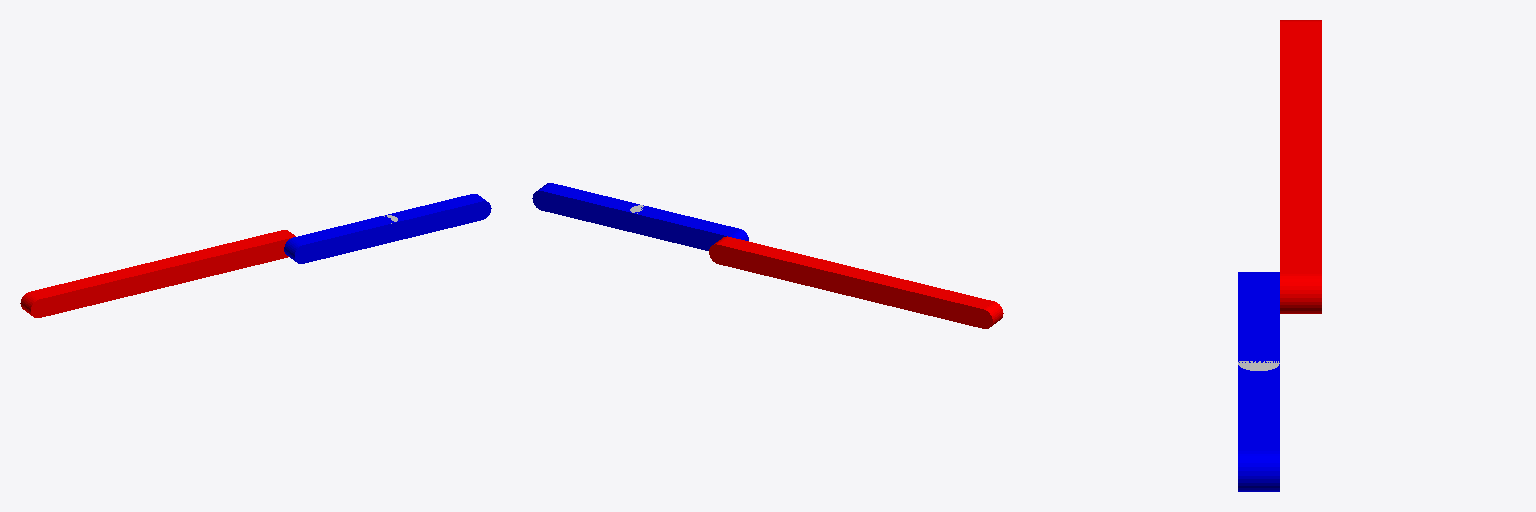
URDF robot description (two_link_robot):
<?xml version="1.0"?>
<robot name="two_link_robot">

  <!-- Base -->
  <link name="base_link"/>

  <!-- Link1 -->
  <link name="link1">
    <visual>
      <origin xyz="0.03536 0.005 0" rpy="0 0 0"/>
      <geometry>
        <box size="0.07071 0.005 0.005"/>
      </geometry>
      <material name="red">
        <color rgba="1 0 0 1"/>
      </material>
    </visual>
    <visual>
      <origin xyz="0 0.005 0" rpy="1.5708 0 0"/>
      <geometry>
        <cylinder radius="0.0025" length="0.005"/>
      </geometry>
      <material name="red">
        <color rgba="1 0 0 1"/>
      </material>
    </visual>
    <visual>
      <origin xyz="0.07071 0.005 0" rpy="1.5708 0 0"/>
      <geometry>
        <cylinder radius="0.0025" length="0.005"/>
      </geometry>
      <material name="red">
        <color rgba="1 0 0 1"/>
      </material>
    </visual>

    <collision>
      <origin xyz="0.03536 0.005 0" rpy="0 0 0"/>
      <geometry>
        <box size="0.07071 0.005 0.005"/>
      </geometry>
    </collision>

    <inertial>
      <origin xyz="0.03536 0.005 0" rpy="0 0 0"/>
      <mass value="0.01"/>

      <inertia
        ixx="0.00000217"
        ixy="0"
        ixz="0"
        iyy="0.00002167"
        iyz="0"
        izz="0.00002167"/>
    </inertial>
  </link>

  <!-- Link2 -->
  <link name="link2">
    <visual>
      <origin xyz="0.025 0 0" rpy="0 0 0"/>
      <geometry>
        <box size="0.05 0.005 0.005"/>
      </geometry>
      <material name="blue">
        <color rgba="0 0 1 1"/>
      </material>
    </visual>
    <visual>
      <origin xyz="0 0 0" rpy="1.5708 0 0"/>
      <geometry>
        <cylinder radius="0.0025" length="0.005"/>
      </geometry>
      <material name="blue">
        <color rgba="0 0 1 1"/>
      </material>
    </visual>
    <visual>
      <origin xyz="0.05 0 0" rpy="1.5708 0 0"/>
      <geometry>
        <cylinder radius="0.0025" length="0.005"/>
      </geometry>
      <material name="blue">
        <color rgba="0 0 1 1"/>
      </material>
    </visual>

    <collision>
      <origin xyz="0.025 0.005 0" rpy="0 0 0"/>
      <geometry>
        <box size="0.05 0.005 0.005"/>
      </geometry>
    </collision>

    <inertial>
      <origin xyz="0.03536 0.005 0" rpy="0 0 0"/>
      <mass value="0.01"/>

      <inertia
        ixx="0.00000217"
        ixy="0"
        ixz="0"
        iyy="0.00002167"
        iyz="0"
        izz="0.00002167"/>
    </inertial>
  </link>


  <!-- Link3 -->
  <link name="ee_link">
    <visual>
      <geometry>
        <cylinder radius="0.0025" length="0.005"/>
      </geometry>

      <material name="gray">
        <color rgba="0.8 0.8 0.8 0.8"/>
      </material>
    </visual>

    <collision>
      <origin xyz="0 0 0" rpy="0 0 0"/>
      <geometry>
        <box size="0.01 0.01 0.01"/>
      </geometry>
    </collision>

    <inertial>
      <origin xyz="0 0 0" rpy="0 0 0"/>
      <mass value="0.01"/>

      <inertia
        ixx="0.00000217"
        ixy="0"
        ixz="0"
        iyy="0.00002167"
        iyz="0"
        izz="0.00002167"/>
    </inertial>
  </link>

  <!-- Joint1 -->
  <joint name="joint1" type="revolute">
    <parent link="base_link"/>
    <child link="link1"/>

    <!-- link1 origin -->
    <origin xyz="-0.025 0 0" rpy="0 0 0"/>

    <axis xyz="0 1 0"/>

    <limit
      lower="-3.14159"
      upper="3.14159"
      effort="10"
      velocity="10"/>
  </joint>

  <!-- Joint2 -->
  <joint name="joint2" type="revolute">
    <parent link="link1"/>
    <child link="link2"/>

    <!-- link1 tip -->
    <origin xyz="0.07071 0 0" rpy="0 0 0"/>

    <axis xyz="0 1 0"/>

    <limit
      lower="-3.14159"
      upper="3.14159"
      effort="10"
      velocity="10"/>
  </joint>

  <!-- Joint3 -->
  <joint name="joint3" type="fixed">
    <parent link="link2"/>
    <child link="ee_link"/>

    <!-- link2 tip -->
    <origin xyz="0.025 0 0" rpy="0 3.14159 0"/>
    <axis xyz="0 1 0"/>

  </joint>

</robot>

--- What the picture shows (computed from the rendered views, not written in the file) ---
Views: 3 orthographic renders of the robot side by side, from view 1: azimuth 30°, elevation 25°; view 2: azimuth 150°, elevation 25°; view 3: azimuth 270°, elevation 25°.
Robot: two_link_robot — 4 links, 3 joints (2 revolute, 1 fixed); root link base_link; default pose: every joint at zero.
Visible links, largest first — view 1: link1, link2; view 2: link1, link2; view 3: link1, link2.
Boxes of the visible links, box(x1,y1,x2,y2) form: link1: box(20, 230, 295, 317); link2: box(284, 194, 491, 263); link1: box(709, 236, 1003, 328); link2: box(532, 183, 748, 250); link1: box(1280, 20, 1321, 313); link2: box(1238, 272, 1279, 491).
Bounding box of the posed robot: 0.1257 × 0.01 × 0.005 m (x, y, z).
Geometry: primitives only (box / cylinder / sphere), no mesh files.
